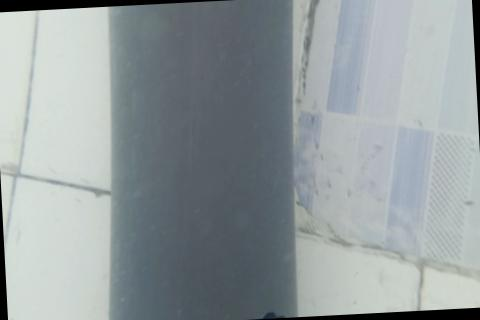kebocoran: (256, 309, 287, 319)
